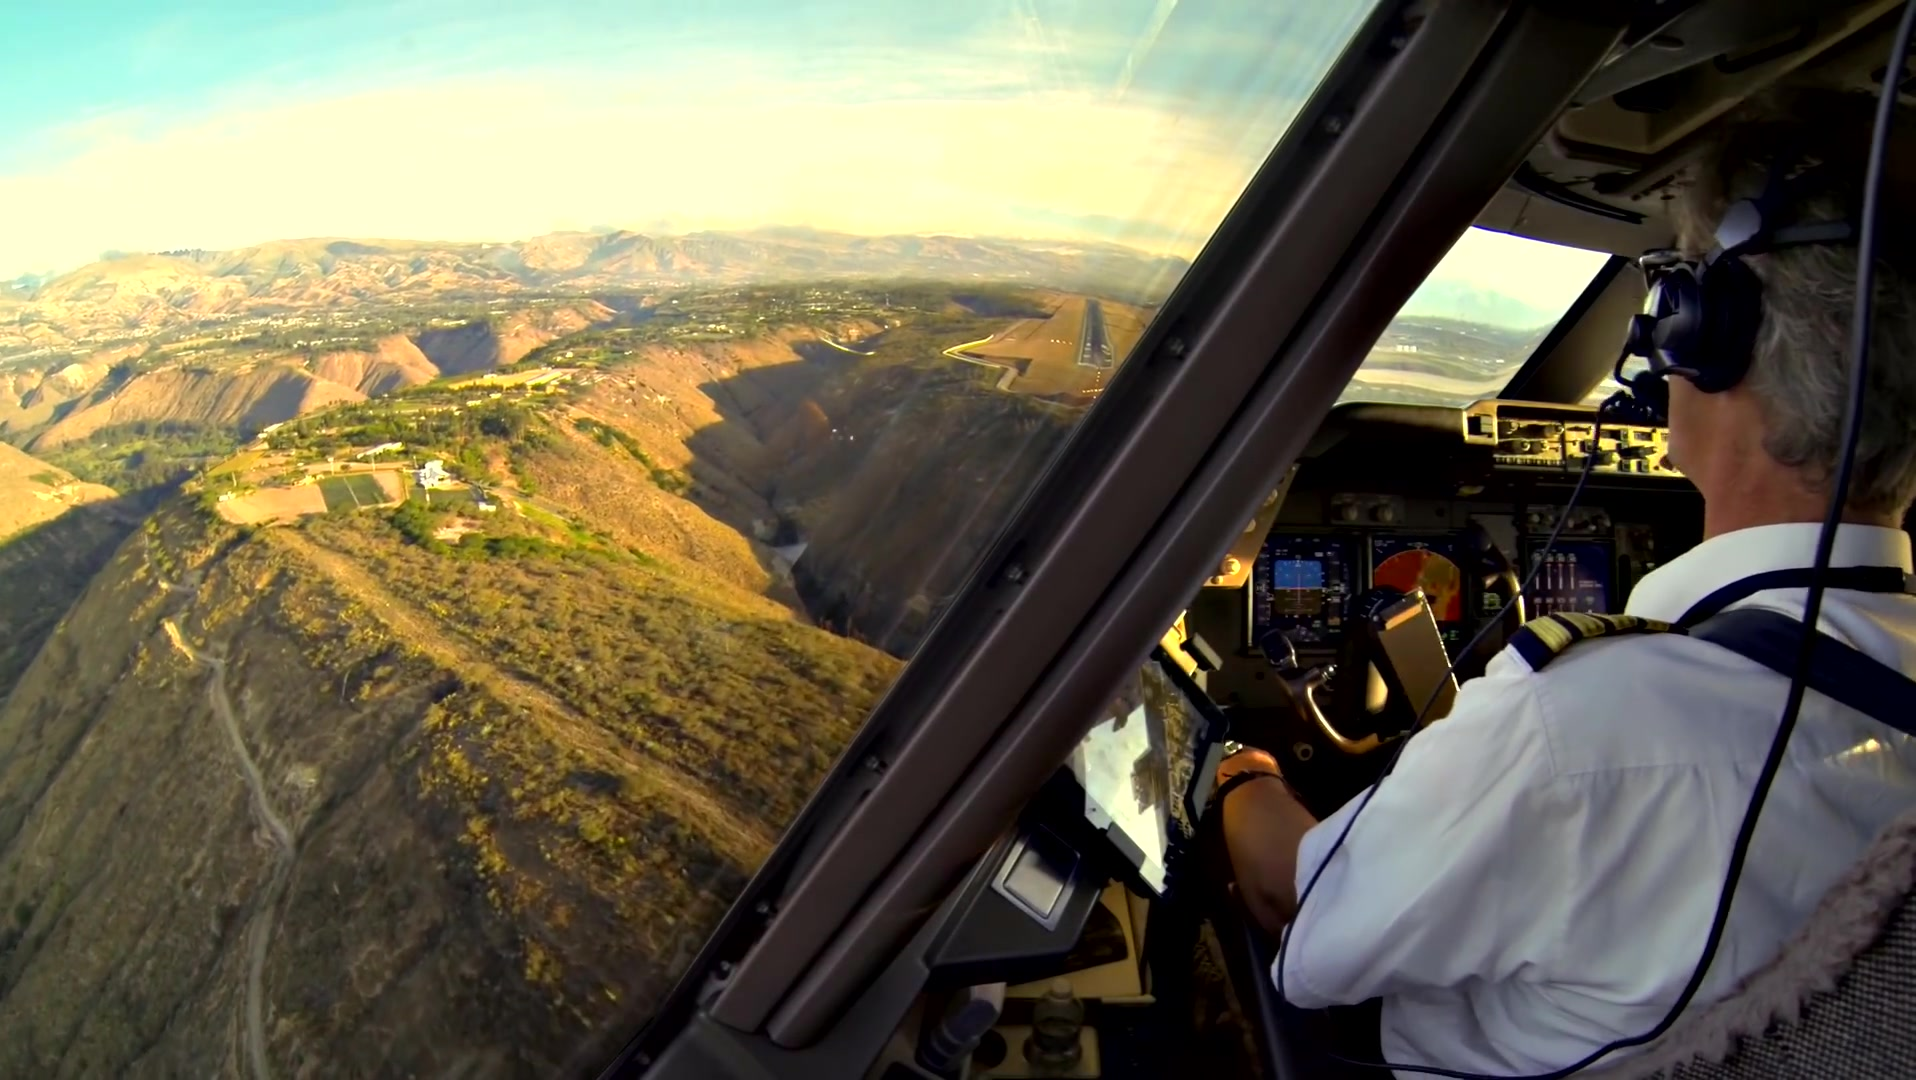runway: (1075, 297, 1119, 370)
